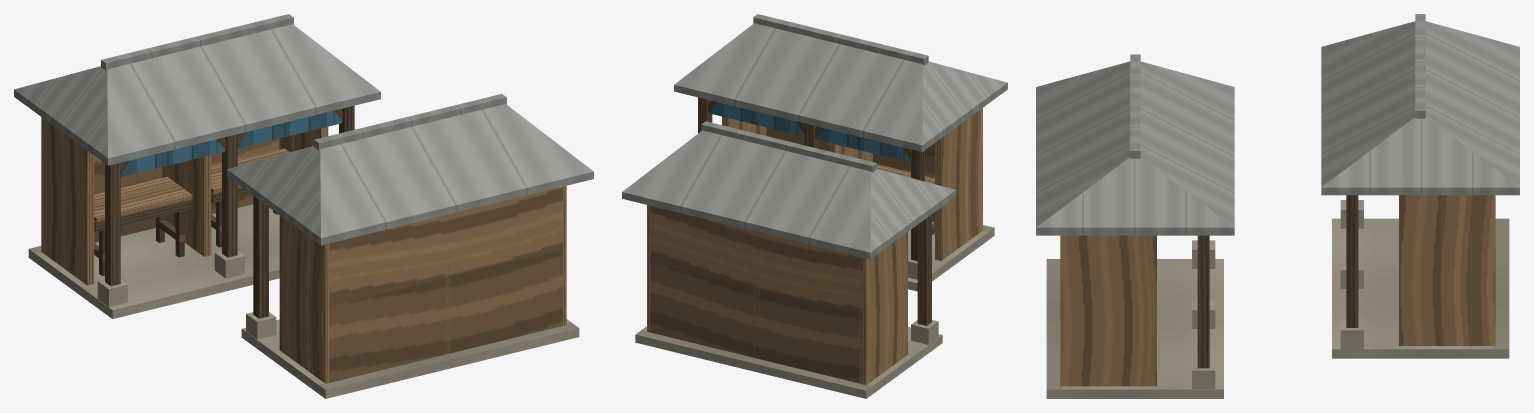
The picture shows the model from 3 angles, left to right: view 1: azimuth 30°, elevation 25°; view 2: azimuth 150°, elevation 25°; view 3: azimuth 270°, elevation 25°; orthographic projection. The views are drawn at different scales.
Parts seen in each view (by area): view 1: sagamu; view 2: sagamu; view 3: sagamu.
Part boxes in pixels (x1,y1,x2,y2): sagamu: (14,14,593,398); sagamu: (622,14,1007,398); sagamu: (1036,14,1519,398).
Bounding box in the file's own units: 4.36 × 2.6 × 4.94.
Materials: 1 (1 with a texture image).
